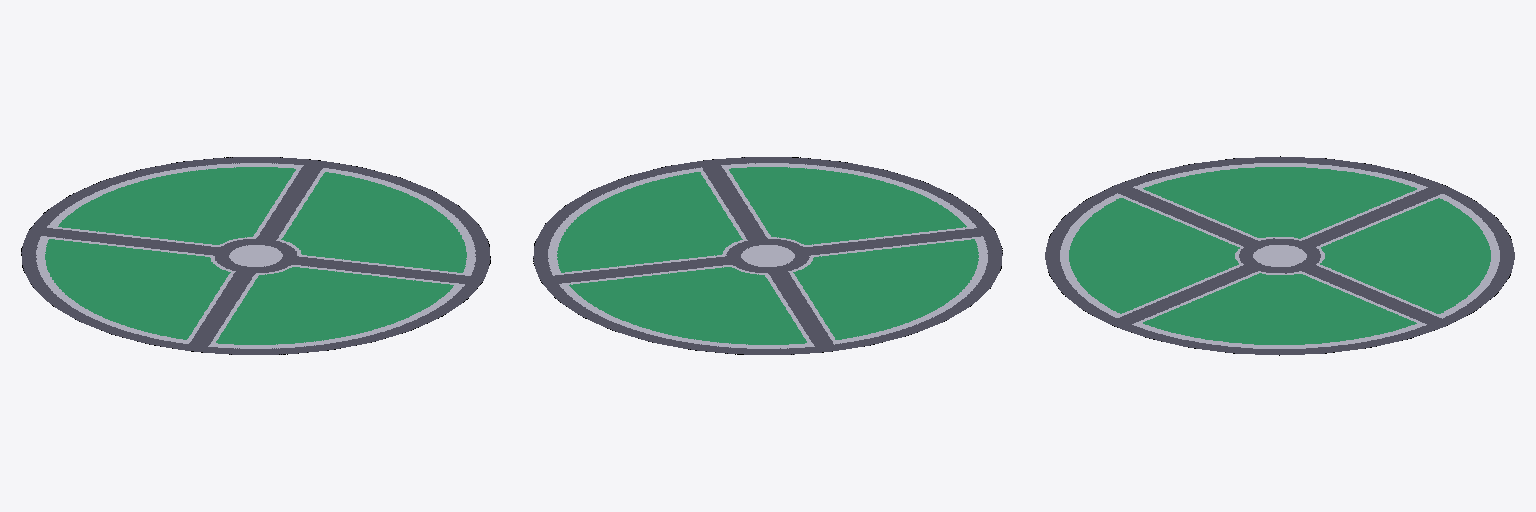
3 views of the same model, side by side, from view 1: azimuth 30°, elevation 25°; view 2: azimuth 150°, elevation 25°; view 3: azimuth 270°, elevation 25° (orthographic).
Visible parts, largest first — view 1: Circle; view 2: Circle; view 3: Circle.
Part boxes in pixels (left/top/right/bottom): Circle: left=21, top=157, right=490, bottom=354; Circle: left=533, top=157, right=1002, bottom=354; Circle: left=1045, top=156, right=1514, bottom=355.
Size of the model in its own units: 400 by 0 by 400.
Materials: 1 (1 with a texture image).